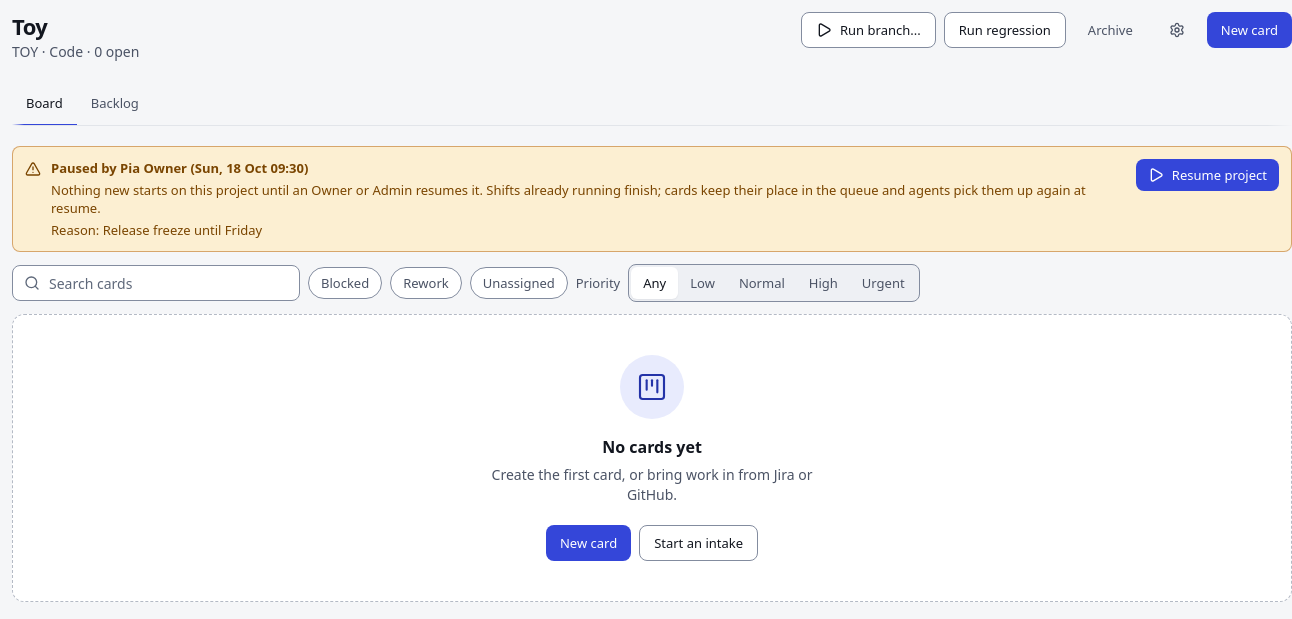
Test: paused banner and resume › shows who, when and why, with Resume for an Owner; resuming clears the banner
This screenshot has width=1292, height=619.
Check: the message with test id "project-paused-banner" shows "Paused by Pia Owner", box left=51, top=159, right=308, bottom=177
Check: the message with test id "project-paused-banner" shows "Nothing new starts on this project until an Owner or Admin resumes it.", box left=51, top=181, right=1086, bottom=217
Step 1. Click the button with test id "resume-project" → [1207, 175], box left=1136, top=159, right=1279, bottom=191
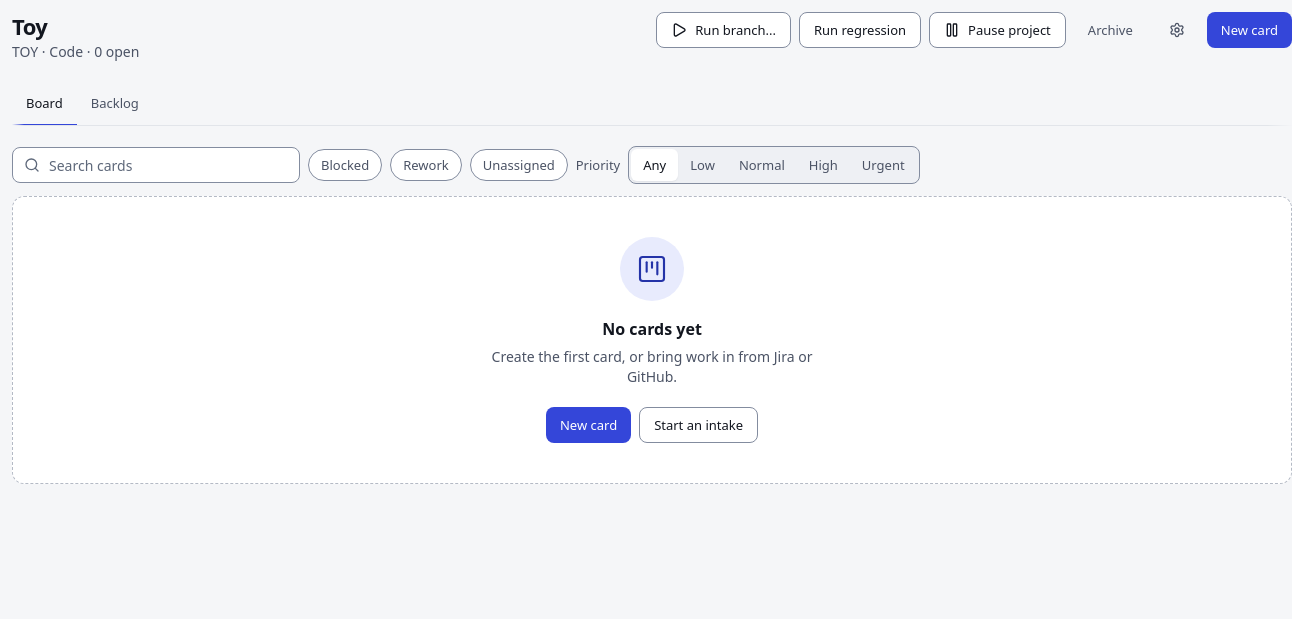
Check: the message with test id "project-paused-banner" is gone
Check: the button with test id "pause-project-open" is shown, box left=929, top=12, right=1066, bottom=48
